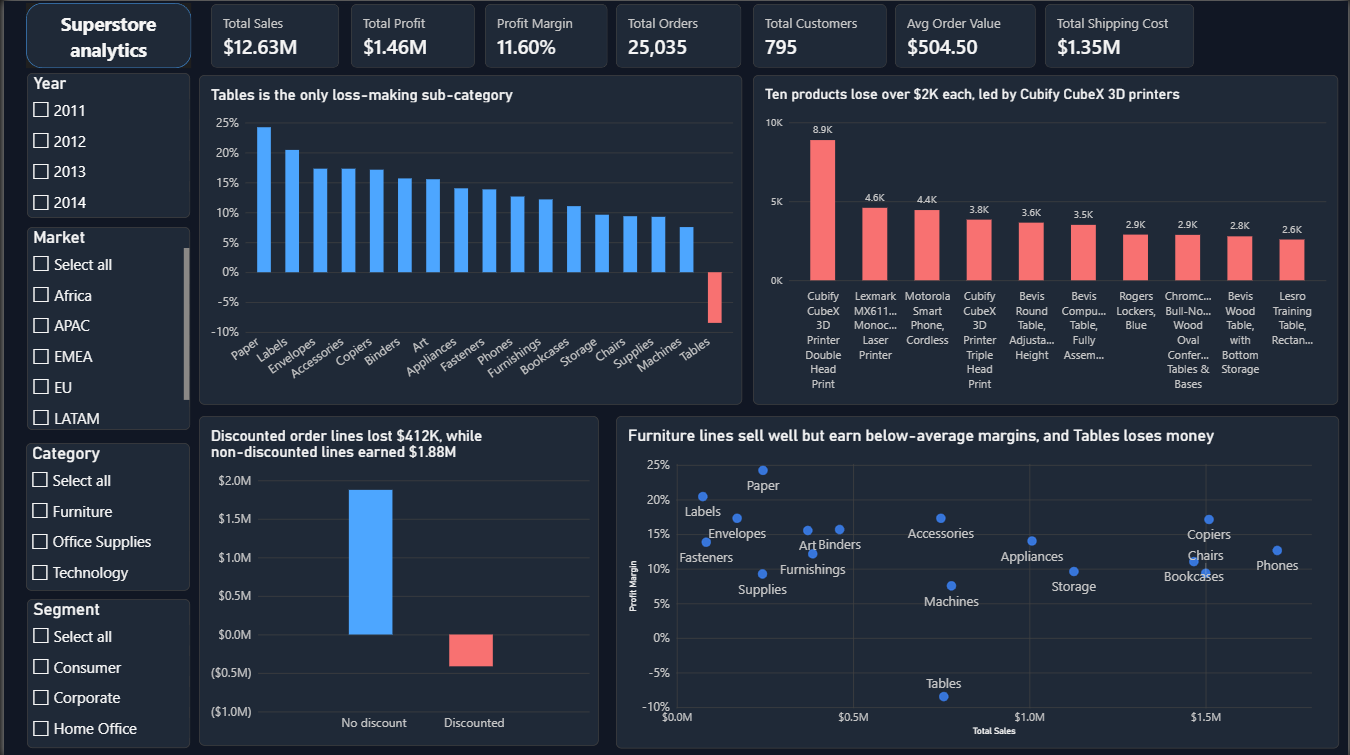

What the dashboard file says about the page in this screenshot:
{"tool":"powerbi","page":{"name":"Profitability","canvas":[1920,1080],"ordinal":1},"visuals":[{"type":"cardVisual","fields":{"Data":["superstore.Total Sales"]},"box":[296.3,3.9,183.7,91.9],"z":0},{"type":"cardVisual","fields":{"Data":["superstore.Total Profit"]},"box":[495.5,3.9,177.3,91.9],"z":1000},{"type":"cardVisual","fields":{"Data":["superstore.Profit Margin"]},"box":[687,3.9,176,91.9],"z":2000},{"type":"cardVisual","fields":{"Data":["superstore.Total Orders Display"]},"box":[874.6,3.9,179.8,91.9],"z":3000},{"type":"cardVisual","fields":{"Data":["superstore.Total Customers"]},"box":[1070,3.9,191.5,91.9],"z":4000},{"type":"cardVisual","fields":{"Data":["superstore.Avg Order Value"]},"box":[1273.1,3.9,201.8,91.9],"z":5000},{"type":"slicer","fields":{"Values":["Calendar.Year"]},"box":[32.3,103.5,232.9,207],"z":6000},{"type":"slicer","fields":{"Values":["superstore.Market2"]},"box":[32.3,323.5,232.9,289.8],"z":7000},{"type":"slicer","fields":{"Values":["superstore.Category"]},"box":[31.1,631.4,234.2,210.9],"z":8000},{"type":"slicer","fields":{"Values":["superstore.Segment"]},"box":[32.3,853.9,232.9,213.5],"z":9000},{"type":"clusteredColumnChart","title":"Tables is the only loss-making sub-category","fields":{"Category":["superstore.Sub.Category"],"Y":["superstore.Profit Margin"]},"box":[278.8,105,776.2,471.2],"z":10000},{"type":"clusteredColumnChart","title":"Ten products lose over $2K each, led by Cubify CubeX 3D printers","fields":{"Category":["superstore.Product.Name"],"Y":["superstore.Loss Amount"]},"box":[1070,105,836.2,471.2],"z":11000},{"type":"scatterChart","title":"Furniture lines sell well but earn below-average margins, and Tables loses money","fields":{"Category":["superstore.Sub.Category"],"X":["superstore.Total Sales"],"Y":["superstore.Profit Margin"]},"box":[873.8,592.5,1032.5,475],"z":13000},{"type":"shape","box":[31.1,2.6,236.4,93.2],"z":14000},{"type":"textbox","box":[45.3,14.2,207,90.6],"z":15000},{"type":"cardVisual","fields":{"Data":["superstore.Total Shipping Cost"]},"box":[1486.6,3.9,213.5,91.9],"z":16000},{"type":"clusteredColumnChart","title":"Discounted order lines lost $412K, while non-discounted lines earned $1.88M","fields":{"Category":["superstore.Discount Status"],"Y":["superstore.Total Profit"]},"box":[278.8,592.5,571.2,471.2],"z":16001}]}

Visuals, with their boxes in screenshot pixels (x1, y1, x2, y2), scaled from the page's 1920x1080 canvas onto the 1350x755 screenshot:
cardVisual - superstore.Total Sales: <region>208, 3, 338, 67</region>
cardVisual - superstore.Total Profit: <region>348, 3, 473, 67</region>
cardVisual - superstore.Profit Margin: <region>483, 3, 607, 67</region>
cardVisual - superstore.Total Orders Display: <region>615, 3, 741, 67</region>
cardVisual - superstore.Total Customers: <region>752, 3, 887, 67</region>
cardVisual - superstore.Avg Order Value: <region>895, 3, 1037, 67</region>
slicer - Calendar.Year: <region>23, 72, 186, 217</region>
slicer - superstore.Market2: <region>23, 226, 186, 429</region>
slicer - superstore.Category: <region>22, 441, 187, 589</region>
slicer - superstore.Segment: <region>23, 597, 186, 746</region>
"Tables is the only loss-making sub-category" clusteredColumnChart: <region>196, 73, 742, 403</region>
"Ten products lose over $2K each, led by Cubify CubeX 3D printers" clusteredColumnChart: <region>752, 73, 1340, 403</region>
"Furniture lines sell well but earn below-average margins, and Tables loses money" scatterChart: <region>614, 414, 1340, 746</region>
shape: <region>22, 2, 188, 67</region>
textbox: <region>32, 10, 177, 73</region>
cardVisual - superstore.Total Shipping Cost: <region>1045, 3, 1195, 67</region>
"Discounted order lines lost $412K, while non-discounted lines earned $1.88M" clusteredColumnChart: <region>196, 414, 598, 744</region>
